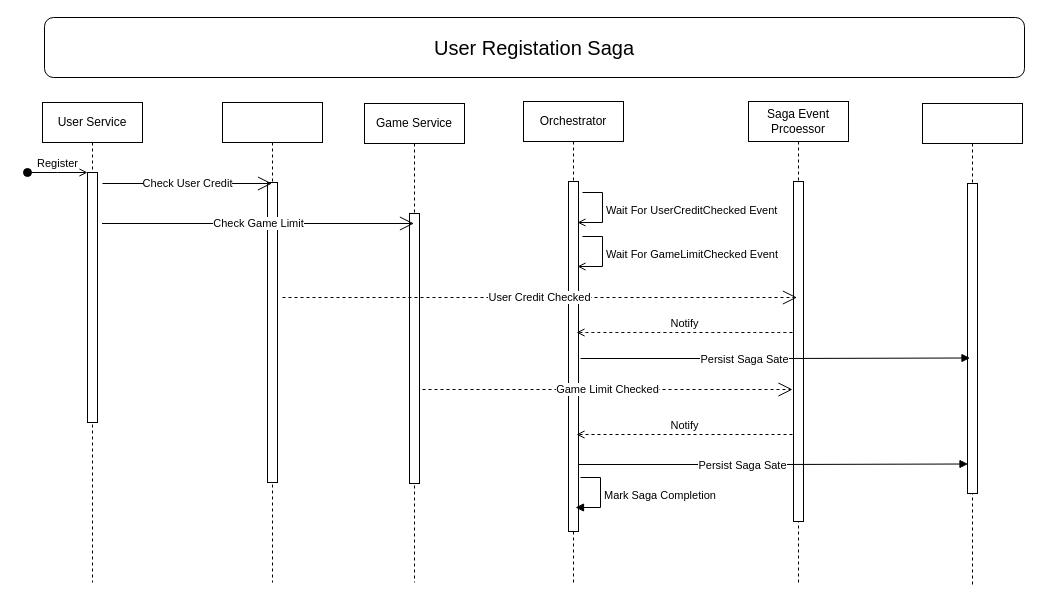
Some shapes in this 1042 by 602 pixel diagram are drawn without their labels. Here are the shapes that lost their labels. From the top down, the box of each, then its label:
(222, 102, 322, 582): Payment Service
(922, 102, 1022, 584): Orchestrator Activity
